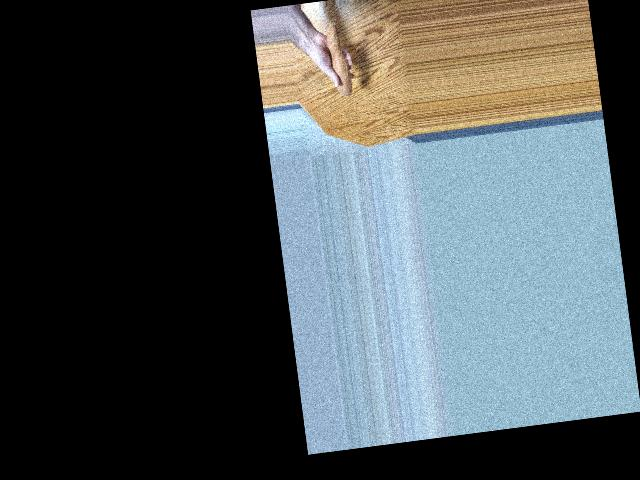sweet_potato: (320, 18, 353, 103)
